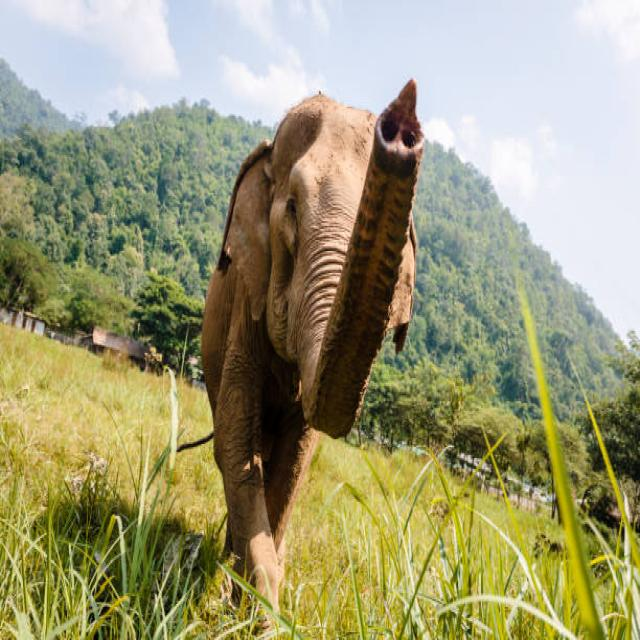Elephant: (197, 62, 435, 613)
